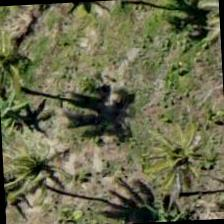Kelapa_Sawit: (141, 110, 223, 205), (0, 66, 55, 160)
